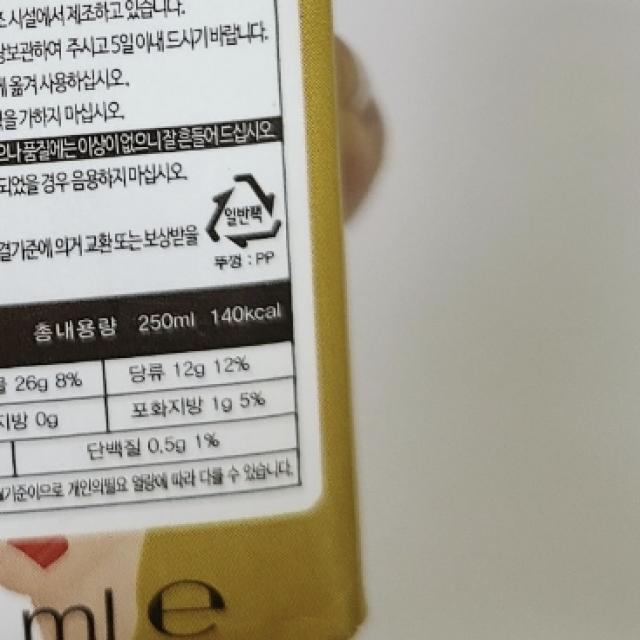NormalPack: (203, 169, 284, 252)
